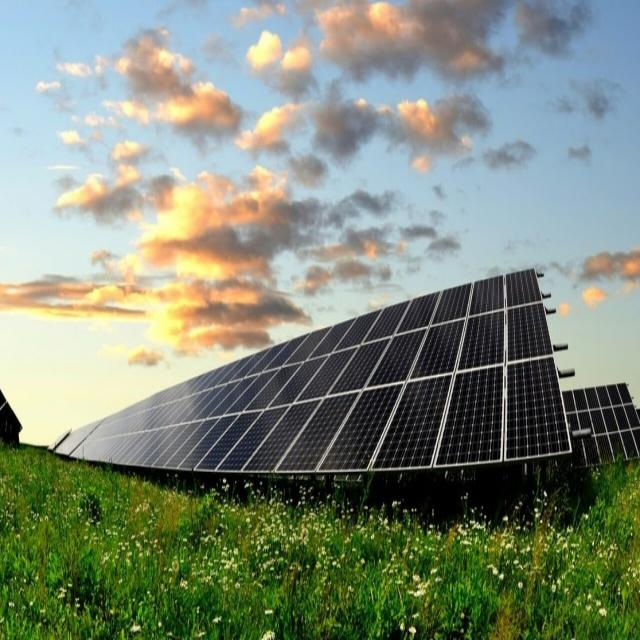clean-solar-panel: (54, 269, 571, 476)
